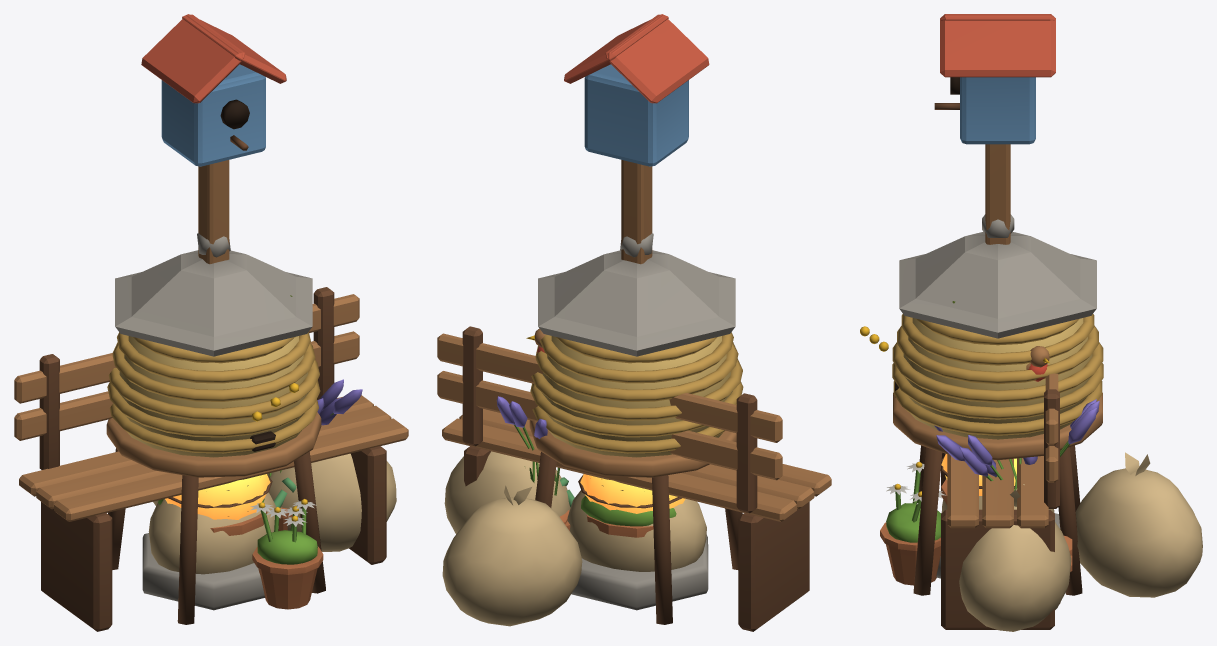
The model's file is jardin.glb.
3 renders of one model, left to right at view 1: azimuth 30°, elevation 25°; view 2: azimuth 150°, elevation 25°; view 3: azimuth 270°, elevation 25°, orthographic.
Visible parts, largest first — view 1: lanterne-pierre:pierre-sombre, banc:bois, ruche-paille:paille-sombre, banc:bois-sombre, sacs:jute, nichoir:peinture-bleue, nichoir:tuile, ruche-paille:paille, ruche-paille:bois, ruche-paille:bois-sombre, pots-fleurs:pot, nichoir:bois (+5 smaller); view 2: sacs:jute, lanterne-pierre:pierre-sombre, banc:bois, ruche-paille:paille-sombre, banc:bois-sombre, nichoir:peinture-bleue, nichoir:tuile, ruche-paille:paille, ruche-paille:bois-sombre, ruche-paille:bois, nichoir:bois, lampion:lampion (+3 smaller); view 3: sacs:jute, lanterne-pierre:pierre-sombre, ruche-paille:paille-sombre, nichoir:tuile, banc:bois, ruche-paille:paille, nichoir:peinture-bleue, banc:bois-sombre, ruche-paille:bois-sombre, ruche-paille:bois, nichoir:bois, pots-fleurs:lavande (+3 smaller).
Boxes of the visible parts, <box> form: lanterne-pierre:pierre-sombre: <box>115,233,312,610</box>; banc:bois: <box>14,294,408,521</box>; ruche-paille:paille-sombre: <box>107,332,320,453</box>; banc:bois-sombre: <box>39,287,386,631</box>; sacs:jute: <box>148,453,396,574</box>; nichoir:peinture-bleue: <box>161,64,265,166</box>; nichoir:tuile: <box>141,14,286,103</box>; ruche-paille:paille: <box>118,336,309,457</box>; ruche-paille:bois: <box>106,412,321,477</box>; ruche-paille:bois-sombre: <box>108,448,325,624</box>; pots-fleurs:pot: <box>210,507,323,609</box>; nichoir:bois: <box>198,160,229,264</box>; sacs:jute: <box>442,451,706,626</box>; lanterne-pierre:pierre-sombre: <box>538,233,735,610</box>; banc:bois: <box>437,333,831,521</box>; ruche-paille:paille-sombre: <box>530,332,743,453</box>; banc:bois-sombre: <box>462,326,809,631</box>; nichoir:peinture-bleue: <box>584,64,688,166</box>; nichoir:tuile: <box>564,14,709,103</box>; ruche-paille:paille: <box>541,336,732,457</box>; ruche-paille:bois-sombre: <box>535,452,742,624</box>; ruche-paille:bois: <box>529,420,736,477</box>; nichoir:bois: <box>621,160,652,264</box>; lampion:lampion: <box>580,474,685,513</box>; sacs:jute: <box>941,452,1202,631</box>; lanterne-pierre:pierre-sombre: <box>899,214,1096,578</box>; ruche-paille:paille-sombre: <box>892,314,1103,435</box>; nichoir:tuile: <box>940,14,1055,77</box>; banc:bois: <box>947,373,1058,528</box>; ruche-paille:paille: <box>903,318,1092,439</box>; nichoir:peinture-bleue: <box>960,77,1035,144</box>; banc:bois-sombre: <box>941,389,1059,629</box>; ruche-paille:bois-sombre: <box>913,445,1082,595</box>; ruche-paille:bois: <box>893,392,1102,460</box>; nichoir:bois: <box>985,144,1010,244</box>; pots-fleurs:lavande: <box>934,399,1099,476</box>.
Bounding box in the file's own units: 1.29 × 1.9 × 1.08.
